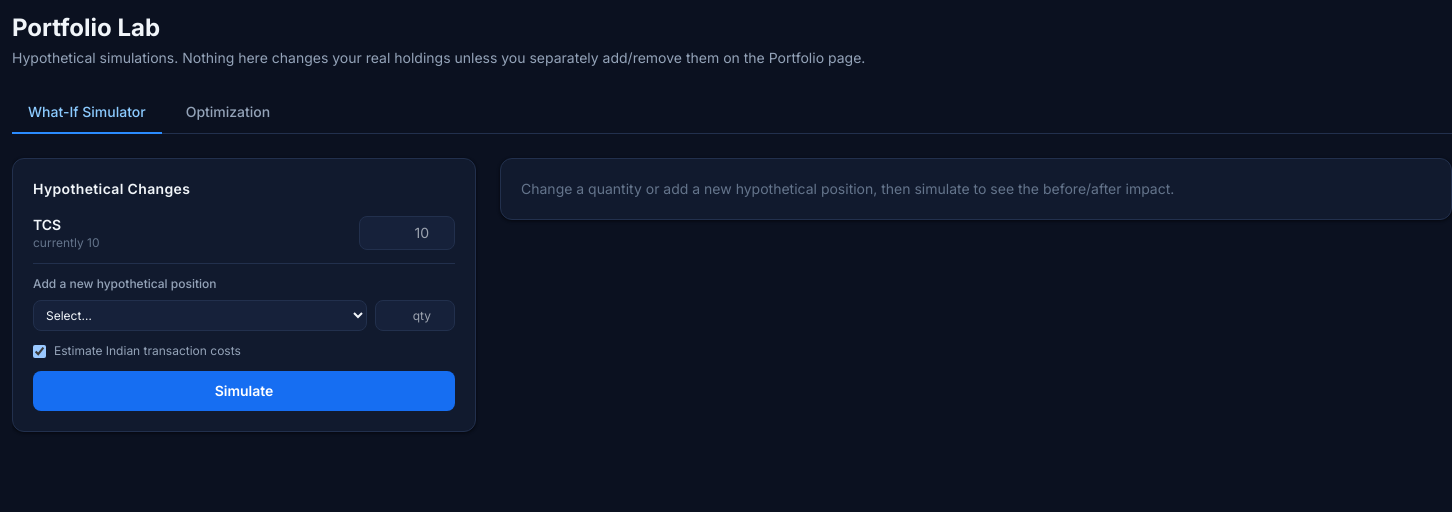
it: PortfolioLabPage - What-If Simulator tab › shows a validation error when nothing has changed
Check: the text "TCS" is shown, box [33,216,61,233]
Click the button "Simulate".
click(244, 391)  # box [33,371,455,411]
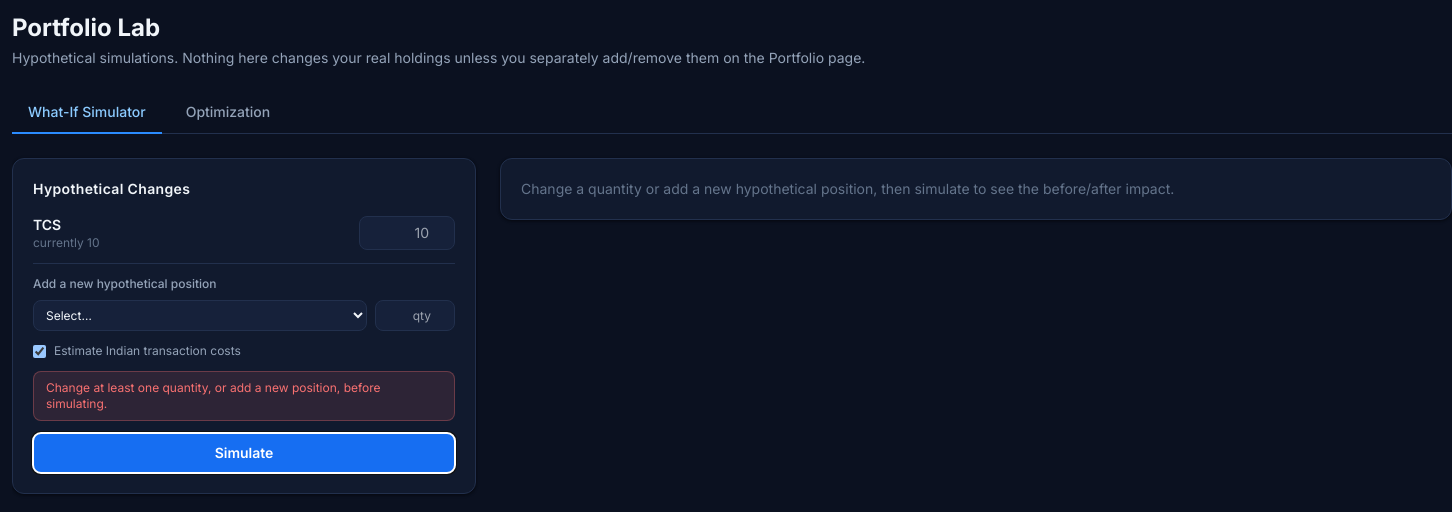
Check: the text "Change at least one quantity" is shown, box [46,380,381,411]
